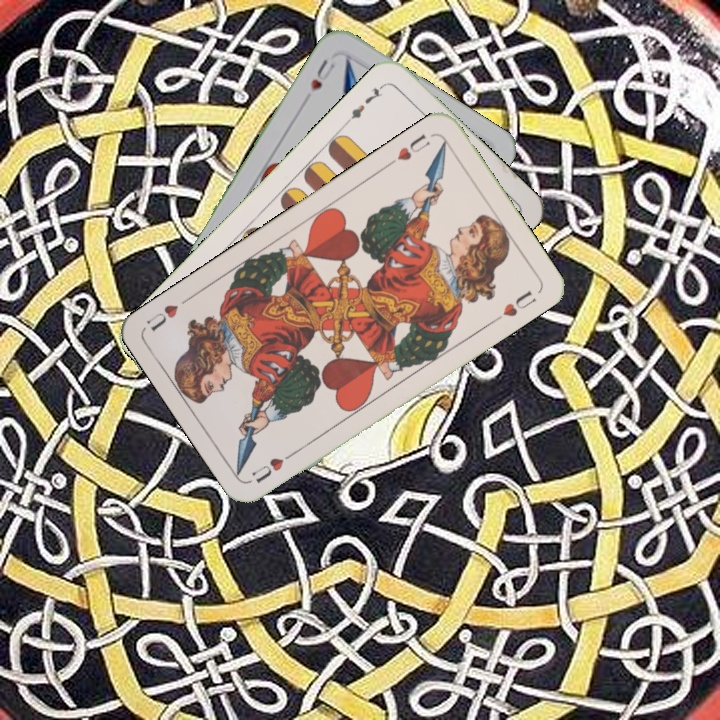E7: (342, 80, 387, 126)
HU: (248, 447, 299, 486), (393, 130, 433, 164), (306, 55, 338, 95)
